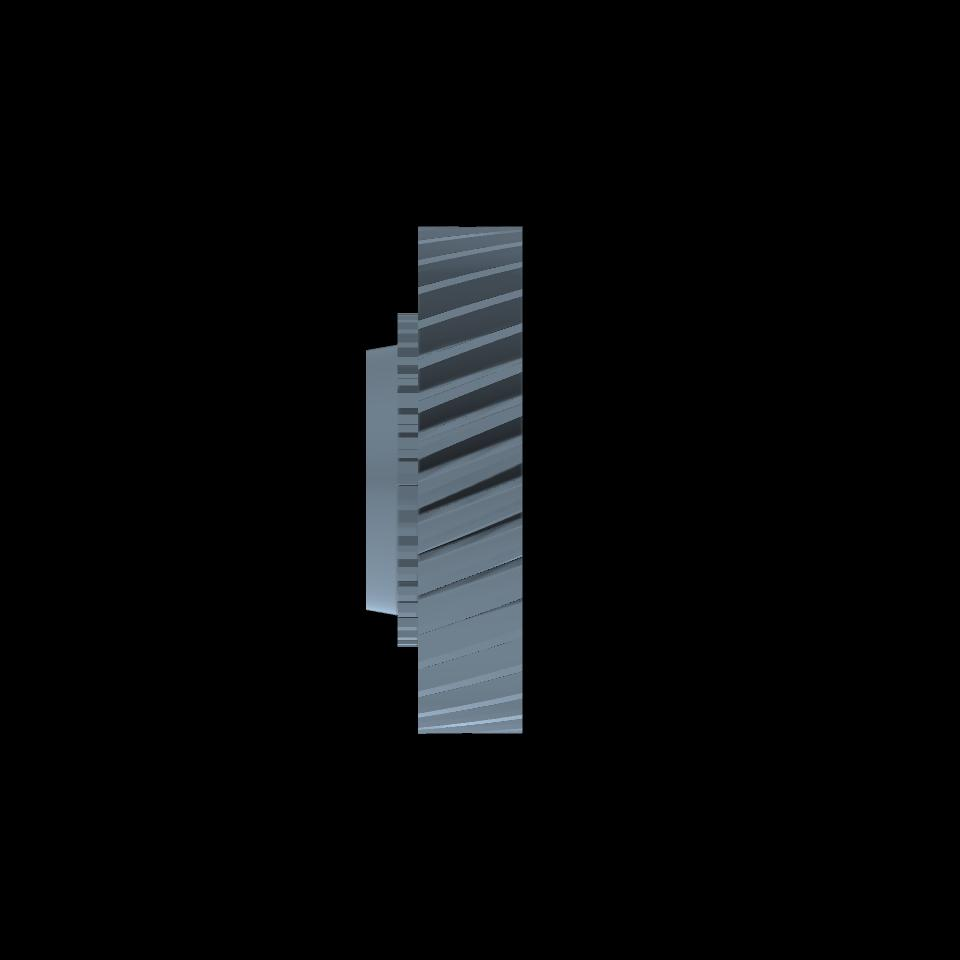Helical: (418, 227, 520, 733)
Straight: (397, 312, 417, 647)
